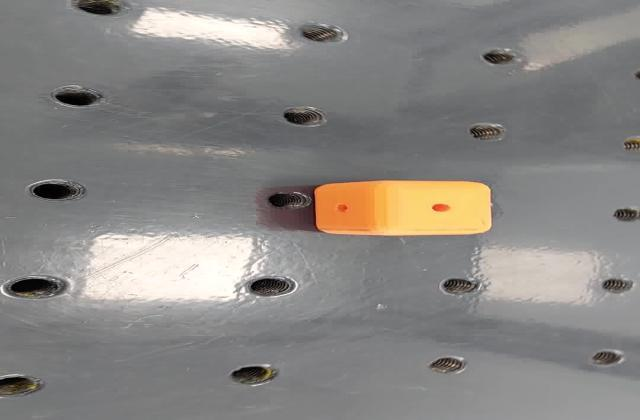cube: (306, 180, 498, 238)
